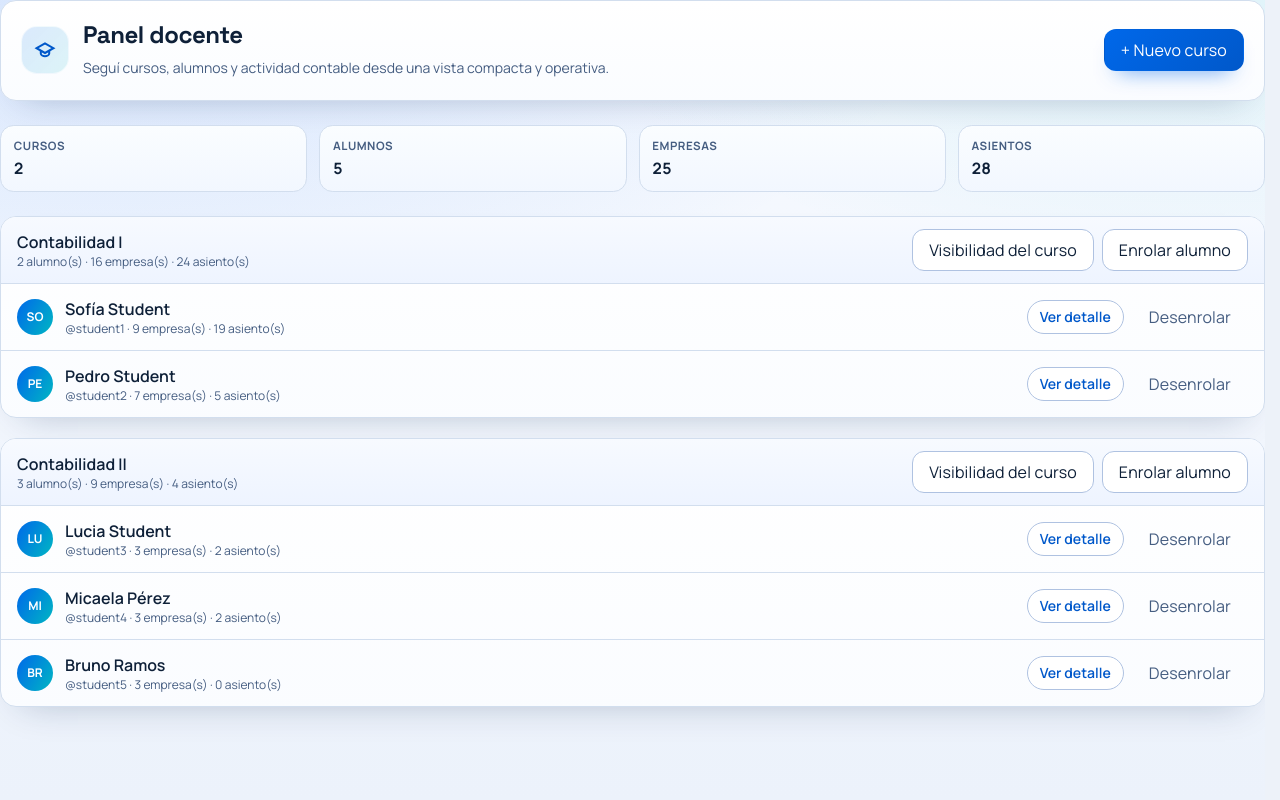
it: TeacherDashboardPage › opens course visibility modal and renders demos and shared companies for the course
The width and height of the screenshot is (1280, 800).
Expected: the heading "Contabilidad I" is shown, [17,231,123,253]
Click the button "Visibilidad del curso" in the row of "24".
click(1003, 250)  # box [912,229,1094,271]
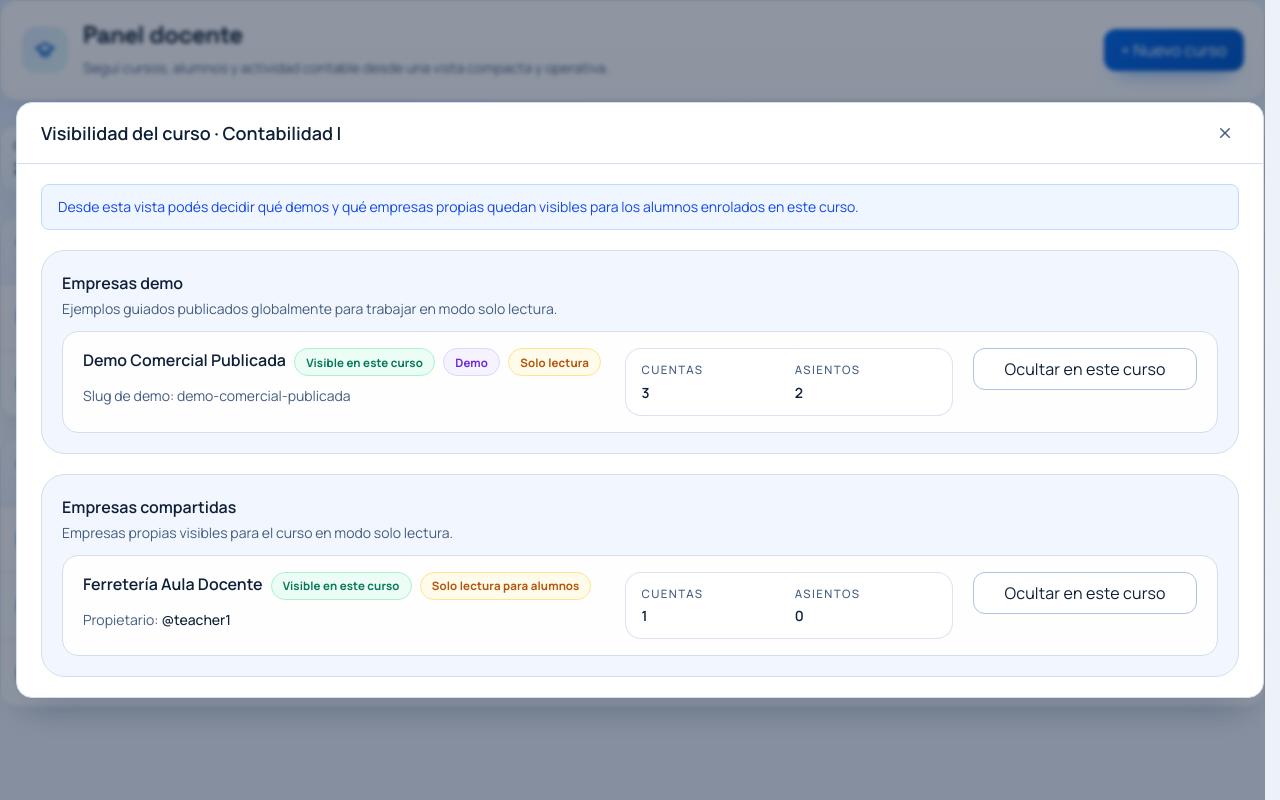
Expected: the dialog "Visibilidad del curso · Contabilidad I" is shown
Expected: the heading "Empresas demo" is shown, [62,272,183,294]
Expected: the heading "Empresas compartidas" is shown, [62,496,236,518]
